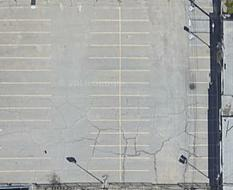parkingspot: (186, 0, 219, 185), (88, 6, 121, 185), (119, 6, 152, 185), (22, 6, 53, 123), (0, 6, 25, 123), (22, 157, 52, 186), (0, 157, 25, 185)
